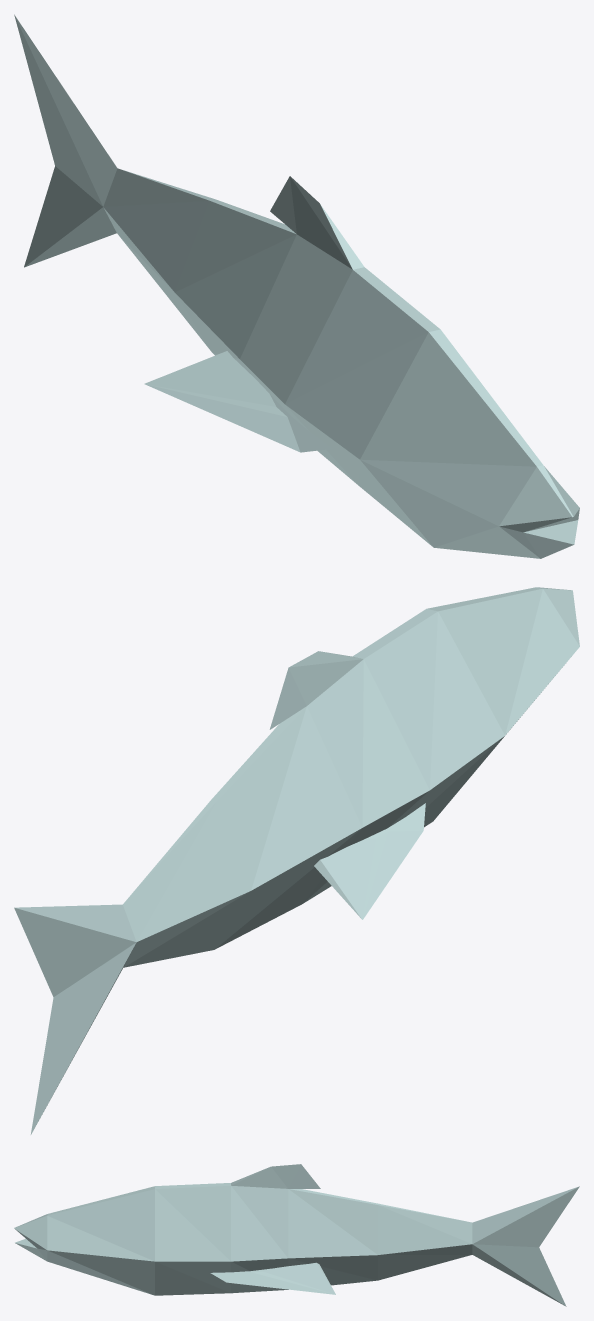
The model's file is FishFinal.fbx.
3 views of the same model, one above another, from view 1: azimuth 30°, elevation 25°; view 2: azimuth 150°, elevation 25°; view 3: azimuth 270°, elevation 25° (orthographic). The views are drawn at different scales.
Visible parts, largest first — view 1: group3; view 2: group3; view 3: group3.
Boxes of the visible parts, x1,y1,x2,y2 form: group3: [14, 14, 579, 558]; group3: [14, 587, 579, 1134]; group3: [14, 1164, 579, 1306].
Bounding box in the file's own units: 4.27 × 5.39 × 19.33.
